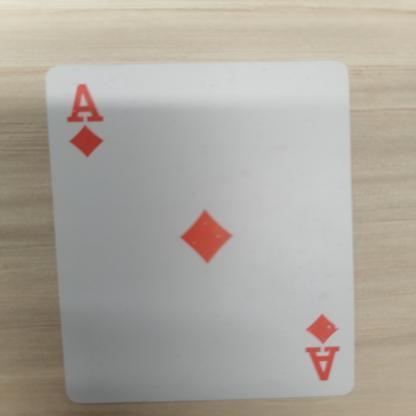AD: (57, 76, 120, 160), (288, 306, 352, 386)
